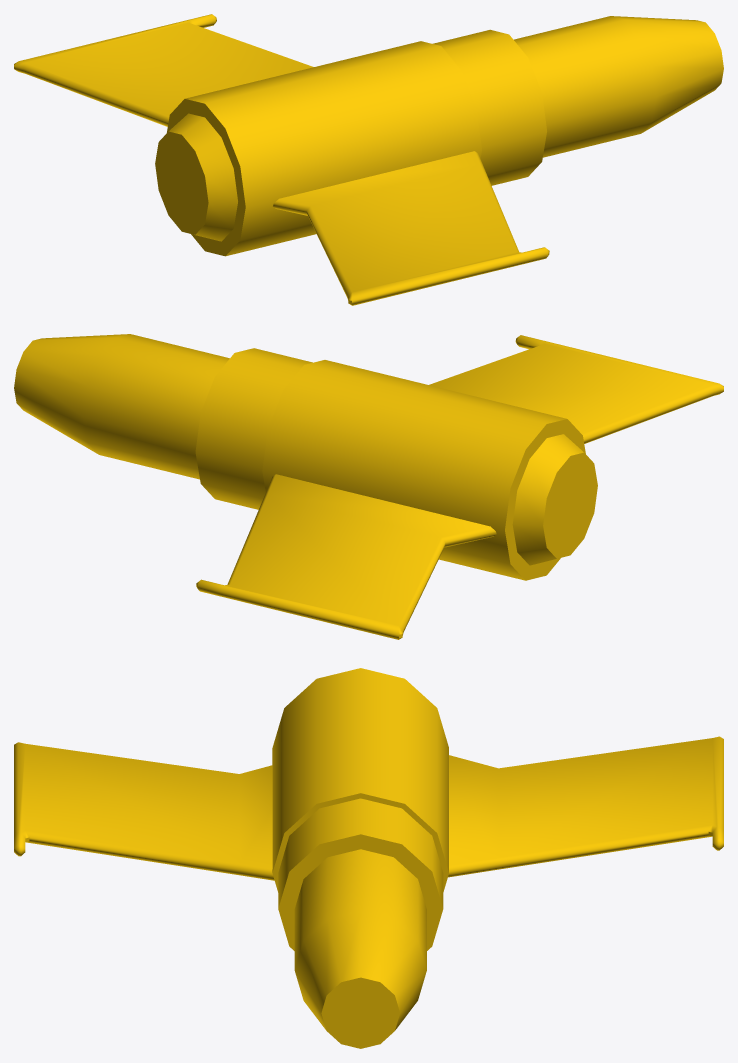
File: aviao amarelo.FBX
3 views of the same model, one above another, from view 1: azimuth 30°, elevation 25°; view 2: azimuth 150°, elevation 25°; view 3: azimuth 270°, elevation 25° (orthographic). The views are drawn at different scales.
Parts seen in each view (by area): view 1: Aviao amarelo; view 2: Aviao amarelo; view 3: Aviao amarelo.
Boxes of the visible parts, left/top/right/bottom form: Aviao amarelo: left=14, top=14, right=723, bottom=305; Aviao amarelo: left=14, top=334, right=723, bottom=639; Aviao amarelo: left=14, top=668, right=723, bottom=1048.
Size of the model in its own units: 25.62 by 27.59 by 6.87.
